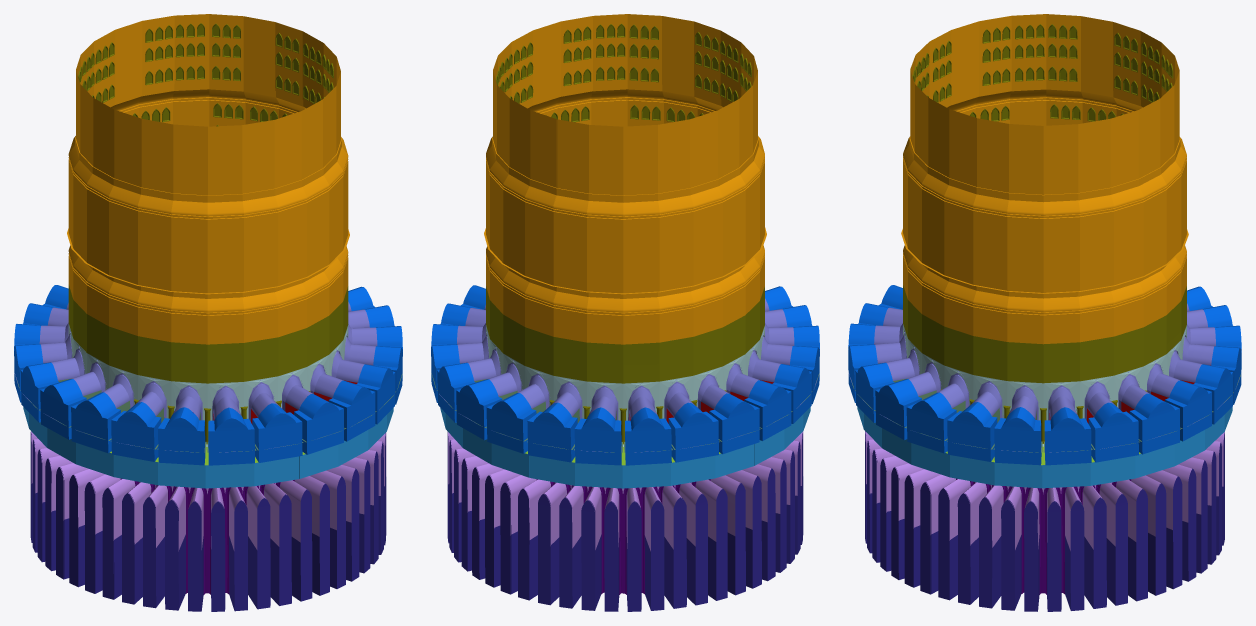
File: chapel_model_export7.fbx
3 views of the same model, side by side, from view 1: azimuth 30°, elevation 25°; view 2: azimuth 150°, elevation 25°; view 3: azimuth 270°, elevation 25° (orthographic).
Parts seen in each view (by area): view 1: chapel_01, chapel_02, chapel3_small_arches_group8_small_arch10_group4_small_arch9, chapel3_small_arches_group7_small_arch10_group4_small_arch9, chapel3_small_arches_group4_small_arch10_group4_small_arch9, chapel3_small_arches_group5_small_arch10_group4_small_arch9; view 2: chapel_01, chapel_02, chapel3_small_arches_group8_small_arch10_group4_small_arch9, chapel3_small_arches_group7_small_arch10_group4_small_arch9, chapel3_small_arches_group4_small_arch10_group4_small_arch9, chapel3_small_arches_group5_small_arch10_group4_small_arch9, chapel1_small_arches_group8_small_arch10_group4_small_arch9, chapel1_small_arches_group7_small_arch10_group4_small_arch9; view 3: chapel_02, chapel_01, chapel1_small_arches_group8_small_arch10_group4_small_arch9, chapel1_small_arches_group7_small_arch10_group4_small_arch9, chapel1_small_arches_group4_small_arch10_group4_small_arch9, chapel1_small_arches_group5_small_arch10_group4_small_arch9.
Boxes of the visible parts, left/top/right/bottom form: chapel_01: left=14, top=21, right=303, bottom=611; chapel_02: left=139, top=14, right=402, bottom=601; chapel3_small_arches_group8_small_arch10_group4_small_arch9: left=145, top=23, right=333, bottom=78; chapel3_small_arches_group7_small_arch10_group4_small_arch9: left=145, top=42, right=333, bottom=92; chapel3_small_arches_group4_small_arch10_group4_small_arch9: left=145, top=65, right=324, bottom=103; chapel3_small_arches_group5_small_arch10_group4_small_arch9: left=141, top=103, right=287, bottom=122; chapel_01: left=527, top=21, right=819, bottom=611; chapel_02: left=431, top=14, right=697, bottom=600; chapel3_small_arches_group8_small_arch10_group4_small_arch9: left=495, top=23, right=658, bottom=85; chapel3_small_arches_group7_small_arch10_group4_small_arch9: left=499, top=43, right=658, bottom=92; chapel3_small_arches_group4_small_arch10_group4_small_arch9: left=509, top=66, right=658, bottom=103; chapel3_small_arches_group5_small_arch10_group4_small_arch9: left=545, top=104, right=694, bottom=122; chapel1_small_arches_group8_small_arch10_group4_small_arch9: left=695, top=32, right=753, bottom=83; chapel1_small_arches_group7_small_arch10_group4_small_arch9: left=695, top=51, right=751, bottom=91; chapel_02: left=848, top=70, right=1241, bottom=611; chapel_01: left=848, top=14, right=1241, bottom=437; chapel1_small_arches_group8_small_arch10_group4_small_arch9: left=912, top=24, right=1173, bottom=82; chapel1_small_arches_group7_small_arch10_group4_small_arch9: left=917, top=43, right=1172, bottom=91; chapel1_small_arches_group4_small_arch10_group4_small_arch9: left=926, top=66, right=1159, bottom=102; chapel1_small_arches_group5_small_arch10_group4_small_arch9: left=970, top=104, right=1123, bottom=121.
Size of the model in its own units: 30.92 by 40.98 by 31.3.
